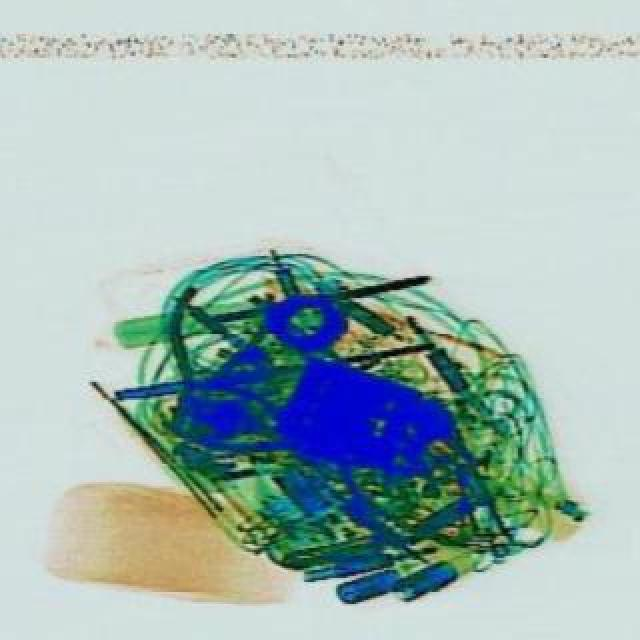wrench: (128, 268, 278, 444), (174, 374, 340, 470)
